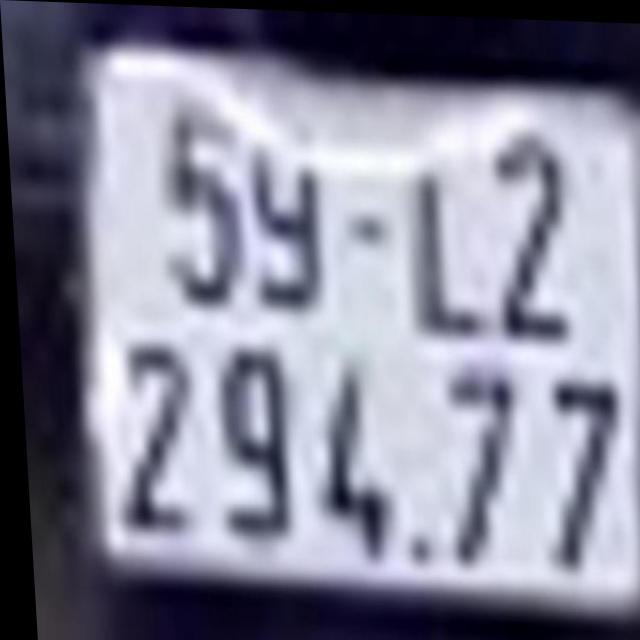2: (105, 335, 201, 539), (489, 128, 576, 345)
4: (311, 348, 392, 563)
5: (156, 108, 246, 306)
7: (531, 360, 627, 579), (426, 358, 520, 569)
9: (204, 335, 292, 549), (245, 113, 325, 321)
L: (401, 134, 490, 342)
